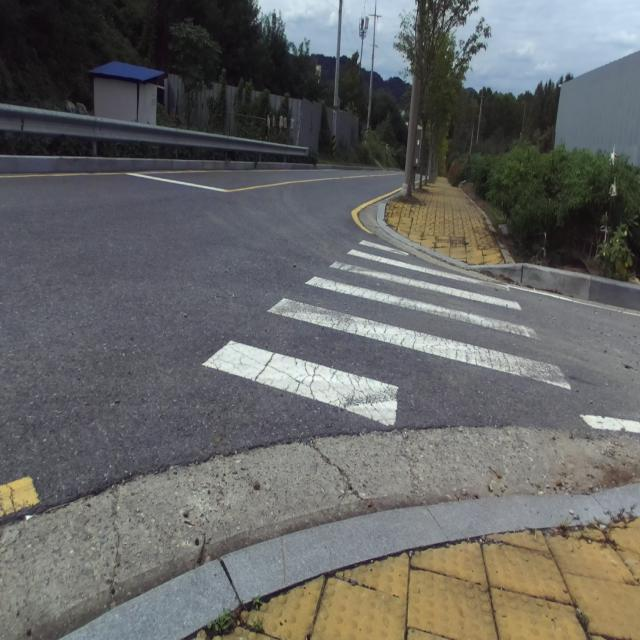횡단보도: (202, 240, 571, 427)
